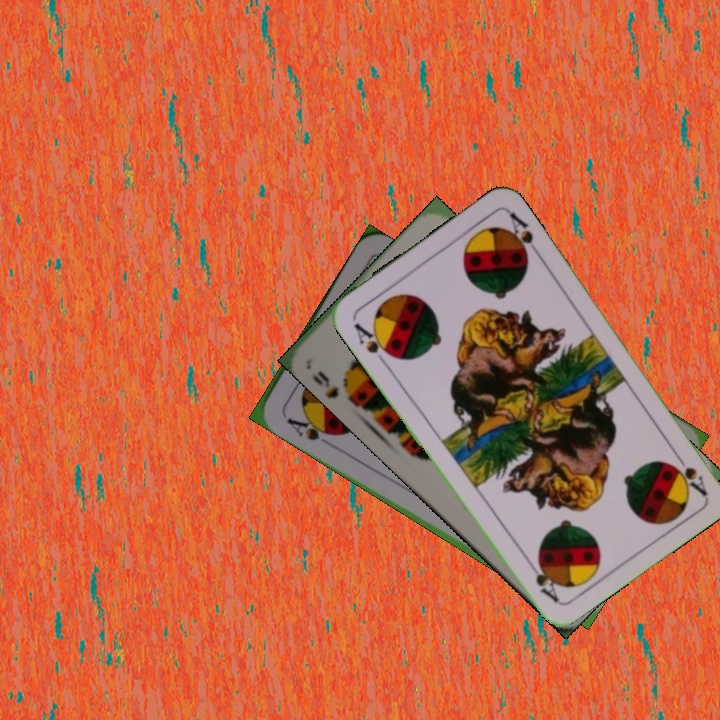S9: (308, 367, 342, 401)
SA: (668, 446, 710, 498), (350, 319, 397, 361), (282, 412, 337, 447)
